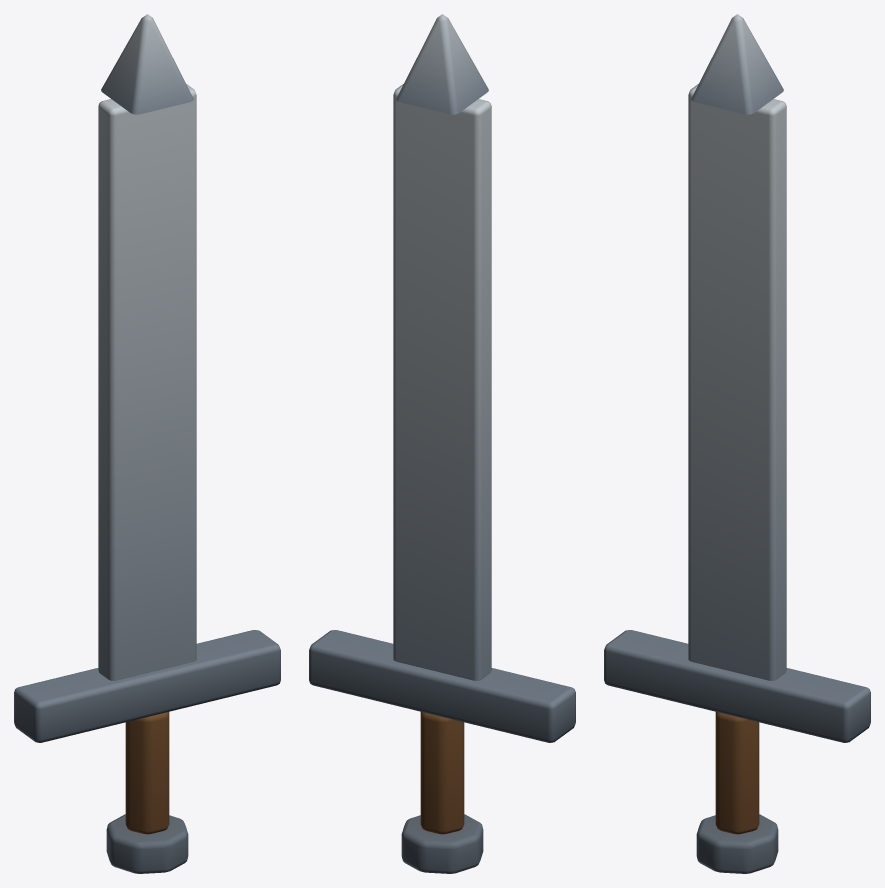
Rendered from iron_sword.glb.
3 views of the same model, side by side, from view 1: azimuth 30°, elevation 25°; view 2: azimuth 150°, elevation 25°; view 3: azimuth 330°, elevation 25° (orthographic).
Parts seen in each view (by area): view 1: iron_sword; view 2: iron_sword; view 3: iron_sword.
Boxes of the visible parts, x1,y1,x2,y2 form: iron_sword: (14,14,280,873); iron_sword: (309,14,575,873); iron_sword: (604,14,870,873).
Size of the model in its own units: 0.56 by 1.84 by 0.1646.
